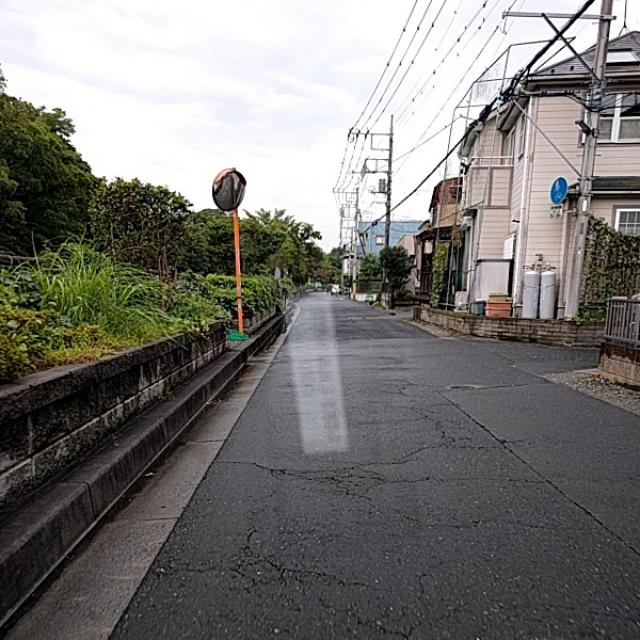pothole: (218, 445, 392, 620)
